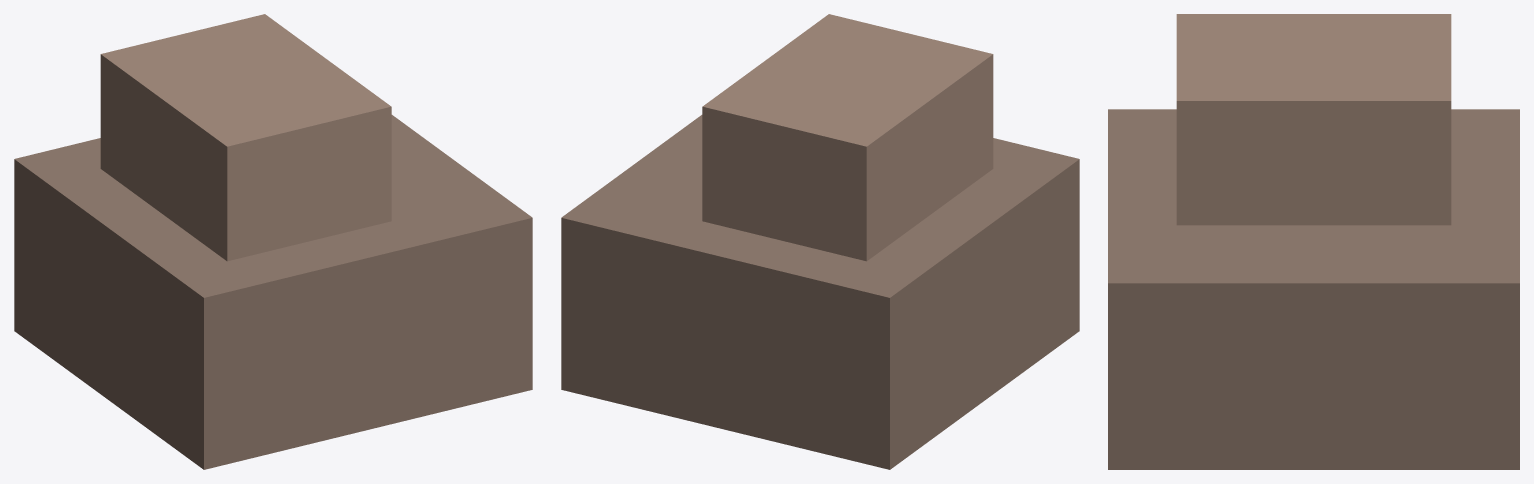
Rendered from butaca_tela_01.glb.
3 renders of one model, left to right at view 1: azimuth 30°, elevation 25°; view 2: azimuth 150°, elevation 25°; view 3: azimuth 270°, elevation 25°, orthographic. The views are drawn at different scales.
Visible parts, largest first — view 1: butaca_tela; view 2: butaca_tela; view 3: butaca_tela.
Part boxes in pixels (x1,y1,x2,y2): butaca_tela: (14,14,532,469); butaca_tela: (561,14,1079,469); butaca_tela: (1108,14,1519,469).
Size of the model in its own units: 0.6 by 0.5 by 0.6.
